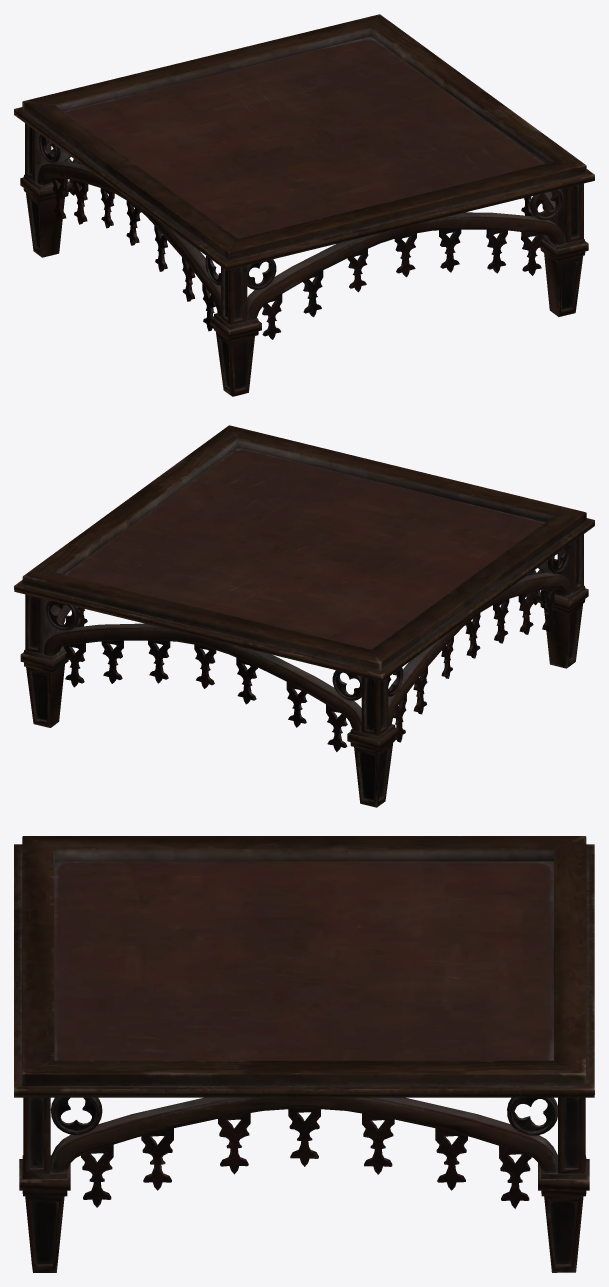
The model's file is gothic_coffee_table.glb.
3 renders of one model, top to bottom at view 1: azimuth 30°, elevation 25°; view 2: azimuth 150°, elevation 25°; view 3: azimuth 270°, elevation 25°, orthographic. The views are drawn at different scales.
Visible parts, largest first — view 1: gothic_coffee_table; view 2: gothic_coffee_table; view 3: gothic_coffee_table.
Part boxes in pixels (box(x1,y1,x2,y2)): gothic_coffee_table: box(14, 14, 594, 396); gothic_coffee_table: box(14, 425, 594, 807); gothic_coffee_table: box(14, 836, 594, 1272).
Size of the model in its own units: 1.44 by 0.5568 by 1.44.
1 material, 1 textured.
